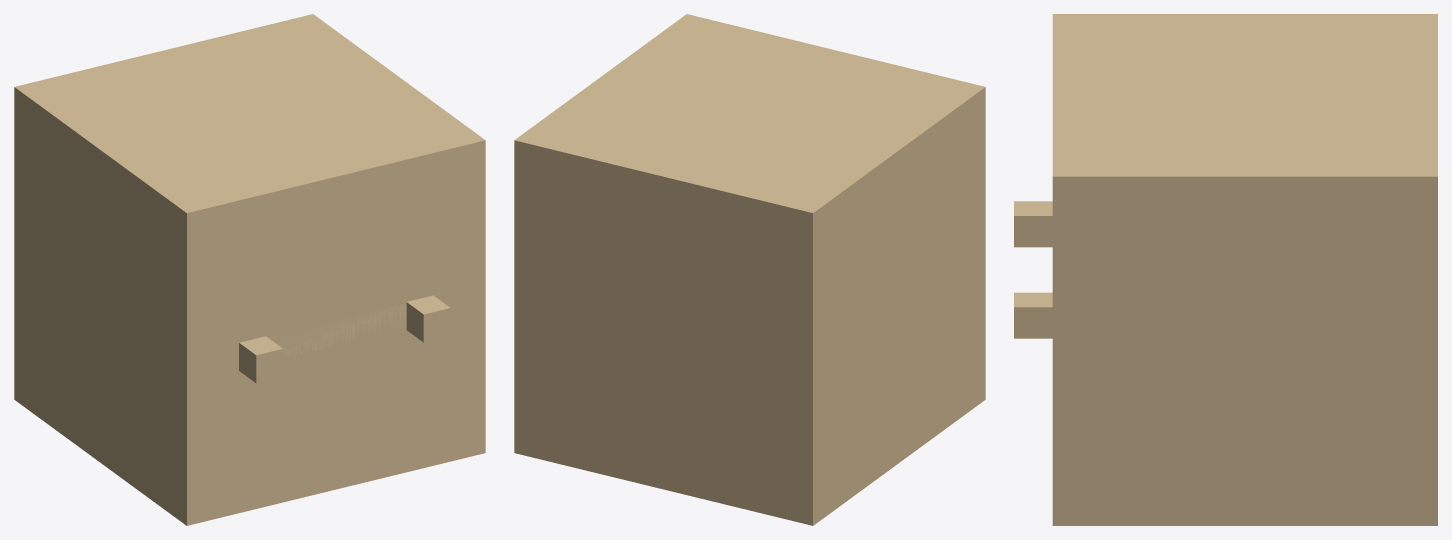
The model's file is 44_ladder.glb.
3 renders of one model, left to right at view 1: azimuth 30°, elevation 25°; view 2: azimuth 150°, elevation 25°; view 3: azimuth 270°, elevation 25°, orthographic. The views are drawn at different scales.
Visible parts, largest first — view 1: Core, Side_-0.28, Side_0.28, Rung_4; view 2: Core, Side_-0.28; view 3: Core, Side_-0.28, Side_0.28.
Part boxes in pixels (x1,y1,x2,y2): Core: (14, 14, 485, 525); Side_-0.28: (239, 336, 283, 383); Side_0.28: (406, 295, 450, 342); Rung_4: (274, 303, 406, 356); Core: (514, 14, 985, 525); Side_-0.28: (734, 336, 760, 370); Core: (1052, 14, 1437, 525); Side_-0.28: (1014, 201, 1052, 247); Side_0.28: (1014, 292, 1052, 338).
Bounding box in the file's own units: 1 × 1 × 1.1.
